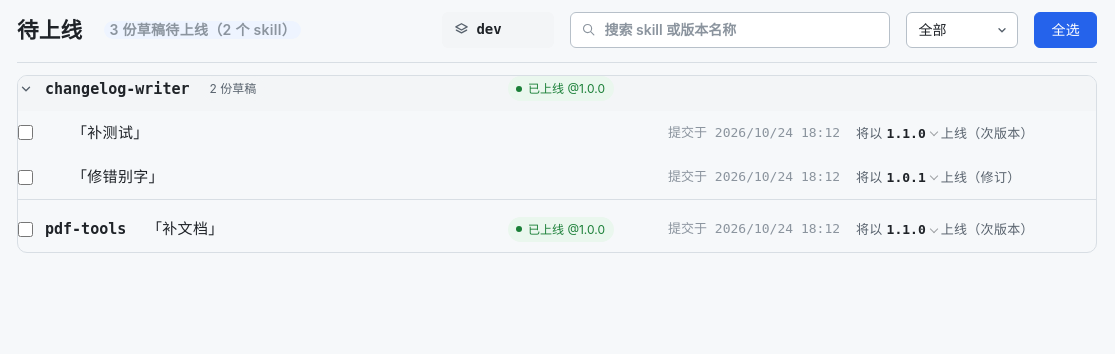
Scenario: the queue › keeps a draft somebody ticked by hand when 全选 fills in the rest
This screenshot has width=1115, height=354.
Click the checkbox named "选择 changelog-writer 的「修错别字」" at (26, 177), box x1=18 y1=170 x2=33 y2=185
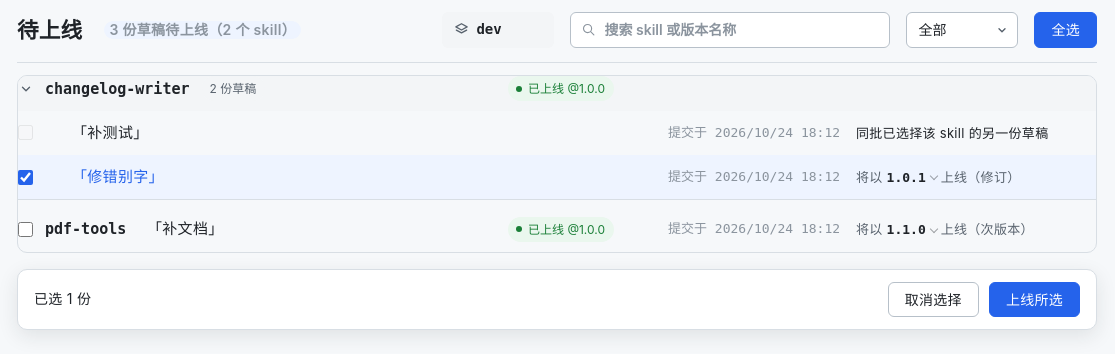
Click the button "全选" at (1066, 30), box x1=1034 y1=12 x2=1097 y2=48
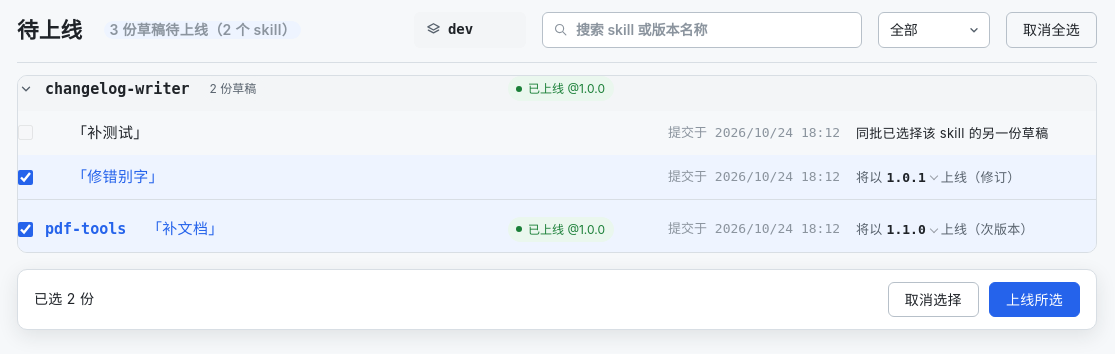
expect the checkbox named "选择 changelog-writer 的「修错别字」" is checked: met, box x1=18 y1=170 x2=33 y2=185
expect the checkbox named "选择 changelog-writer 的「补测试」" is disabled: met, box x1=18 y1=126 x2=33 y2=140
expect the checkbox named "选择 pdf-tools 的「补文档」" is checked: met, box x1=18 y1=222 x2=33 y2=237
